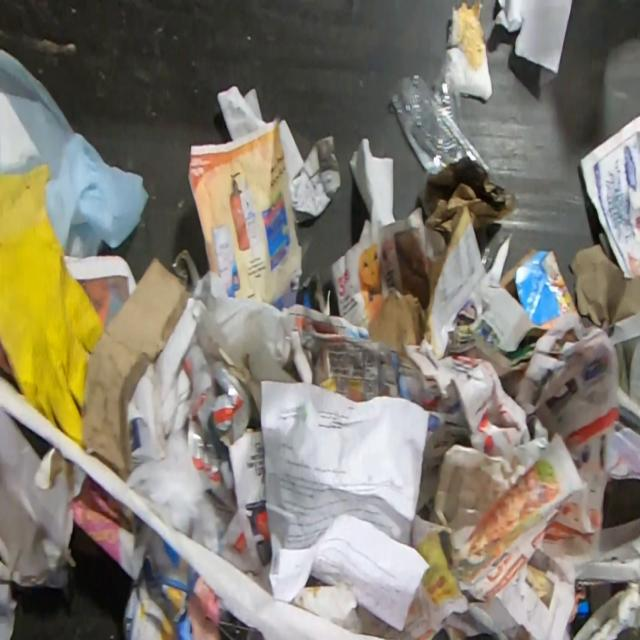cardboard: (81, 254, 194, 483), (366, 204, 486, 360), (500, 247, 578, 329)
rigid_plastic: (390, 72, 492, 176)
soft_plastic: (173, 332, 252, 525)
